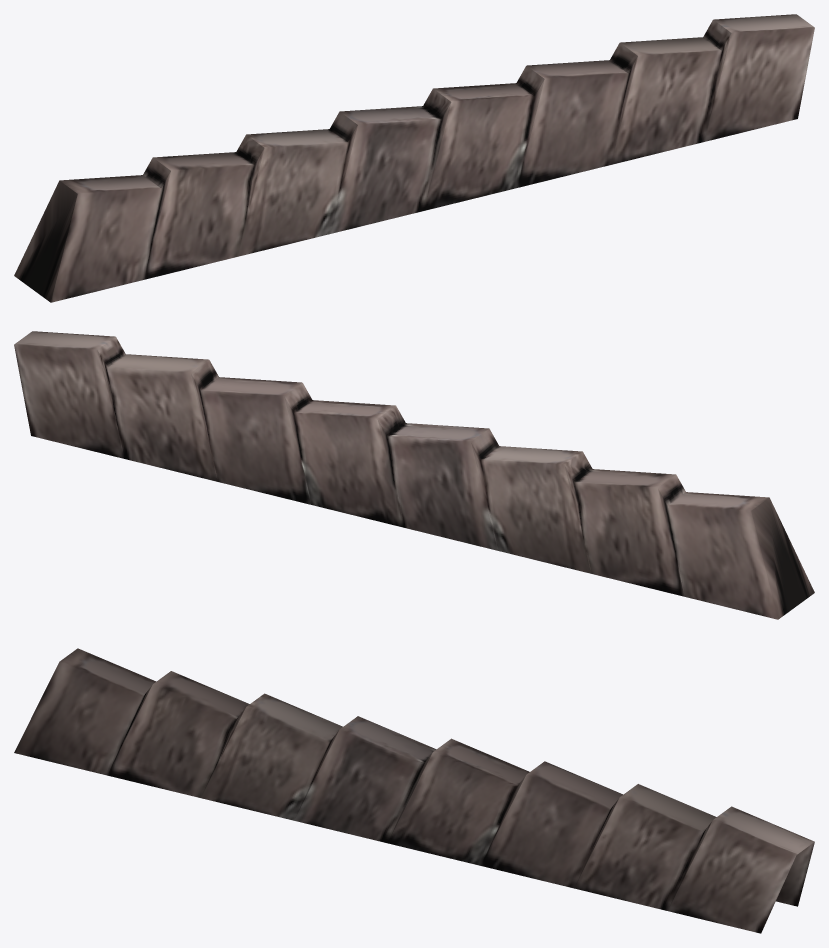
Rendered from RoofEdge1A.fbx.
3 views of the same model, one above another, from view 1: azimuth 30°, elevation 25°; view 2: azimuth 150°, elevation 25°; view 3: azimuth 330°, elevation 25° (orthographic).
Parts seen in each view (by area): view 1: RoofEdge1A; view 2: RoofEdge1A; view 3: RoofEdge1A.
Part boxes in pixels (box(x1,y1,x2,y2)): RoofEdge1A: box(14, 14, 814, 302); RoofEdge1A: box(14, 331, 814, 619); RoofEdge1A: box(14, 648, 814, 933).
Size of the model in its own units: 207 by 24.25 by 17.1.
